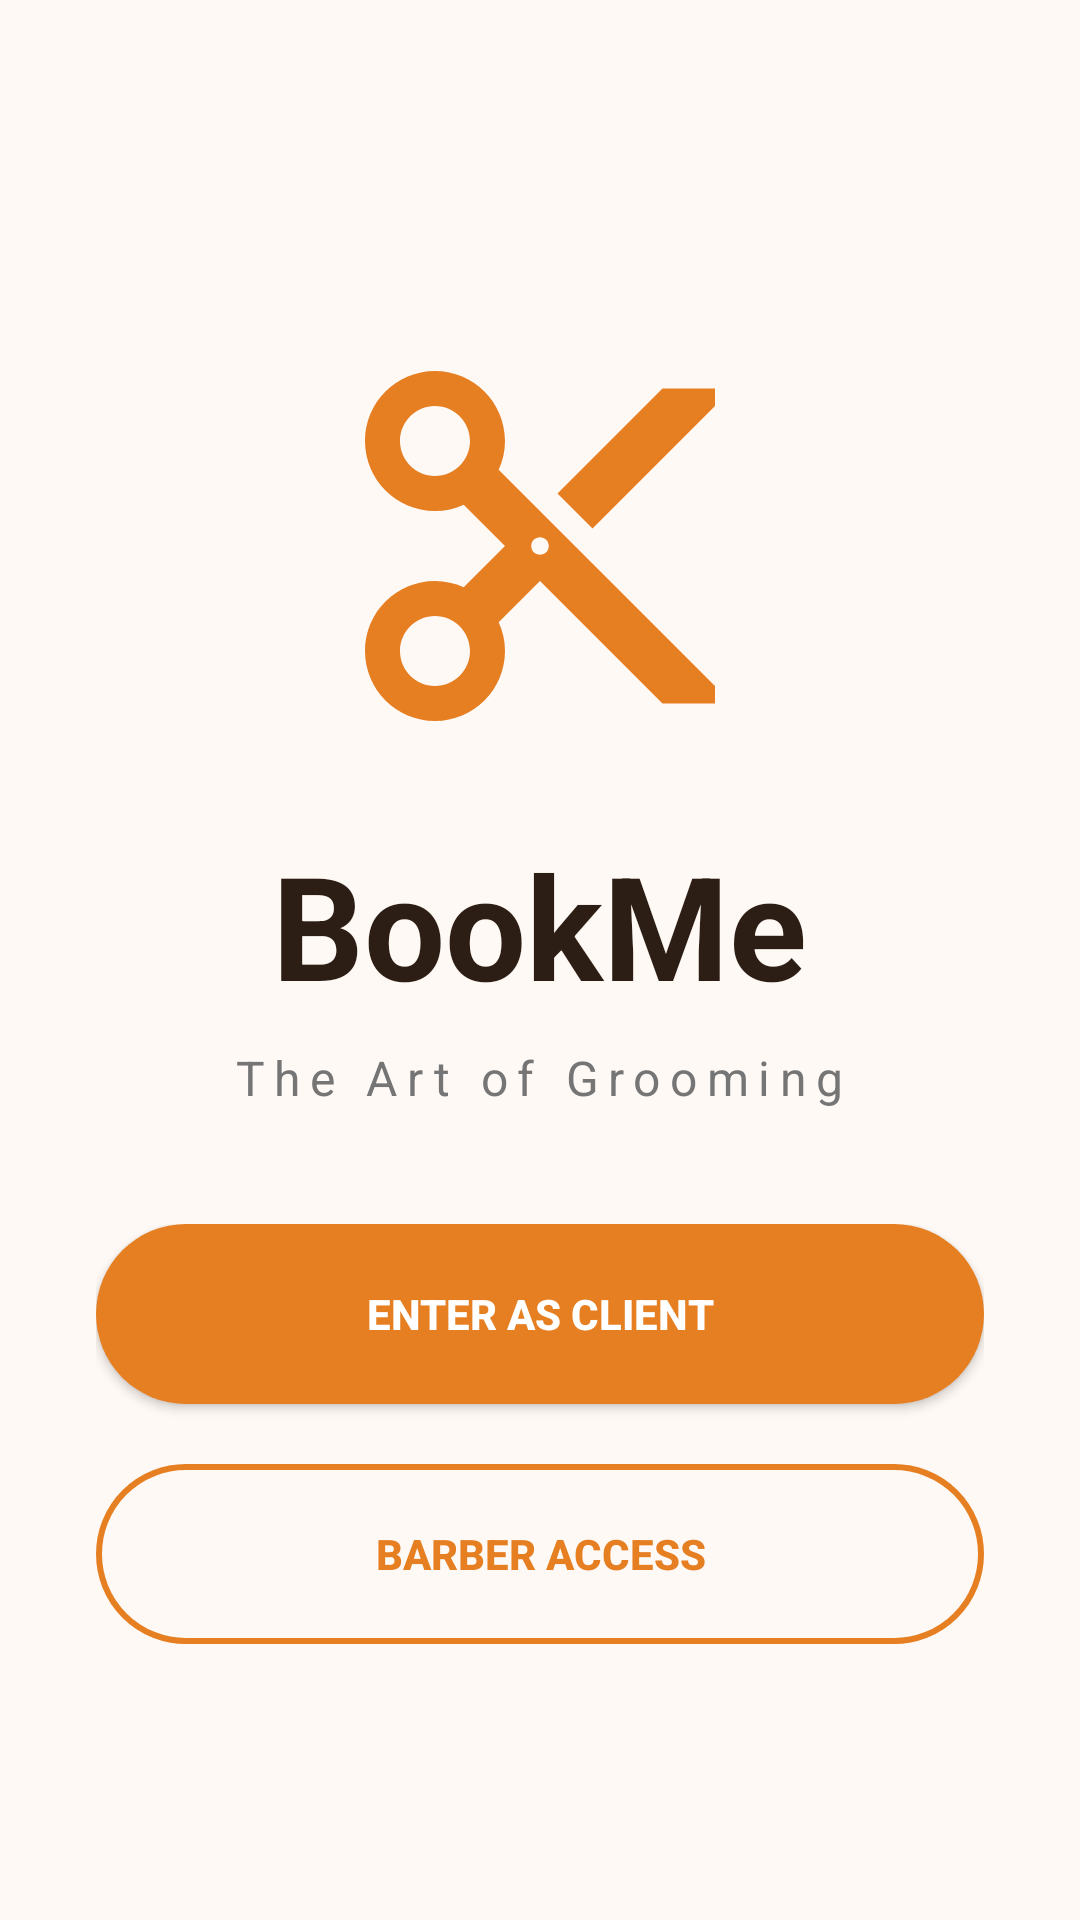

Where icons sit on this 1080×1920 app screen, as (x1, y1, x2, y2):
scissors: (365, 371, 715, 721)
